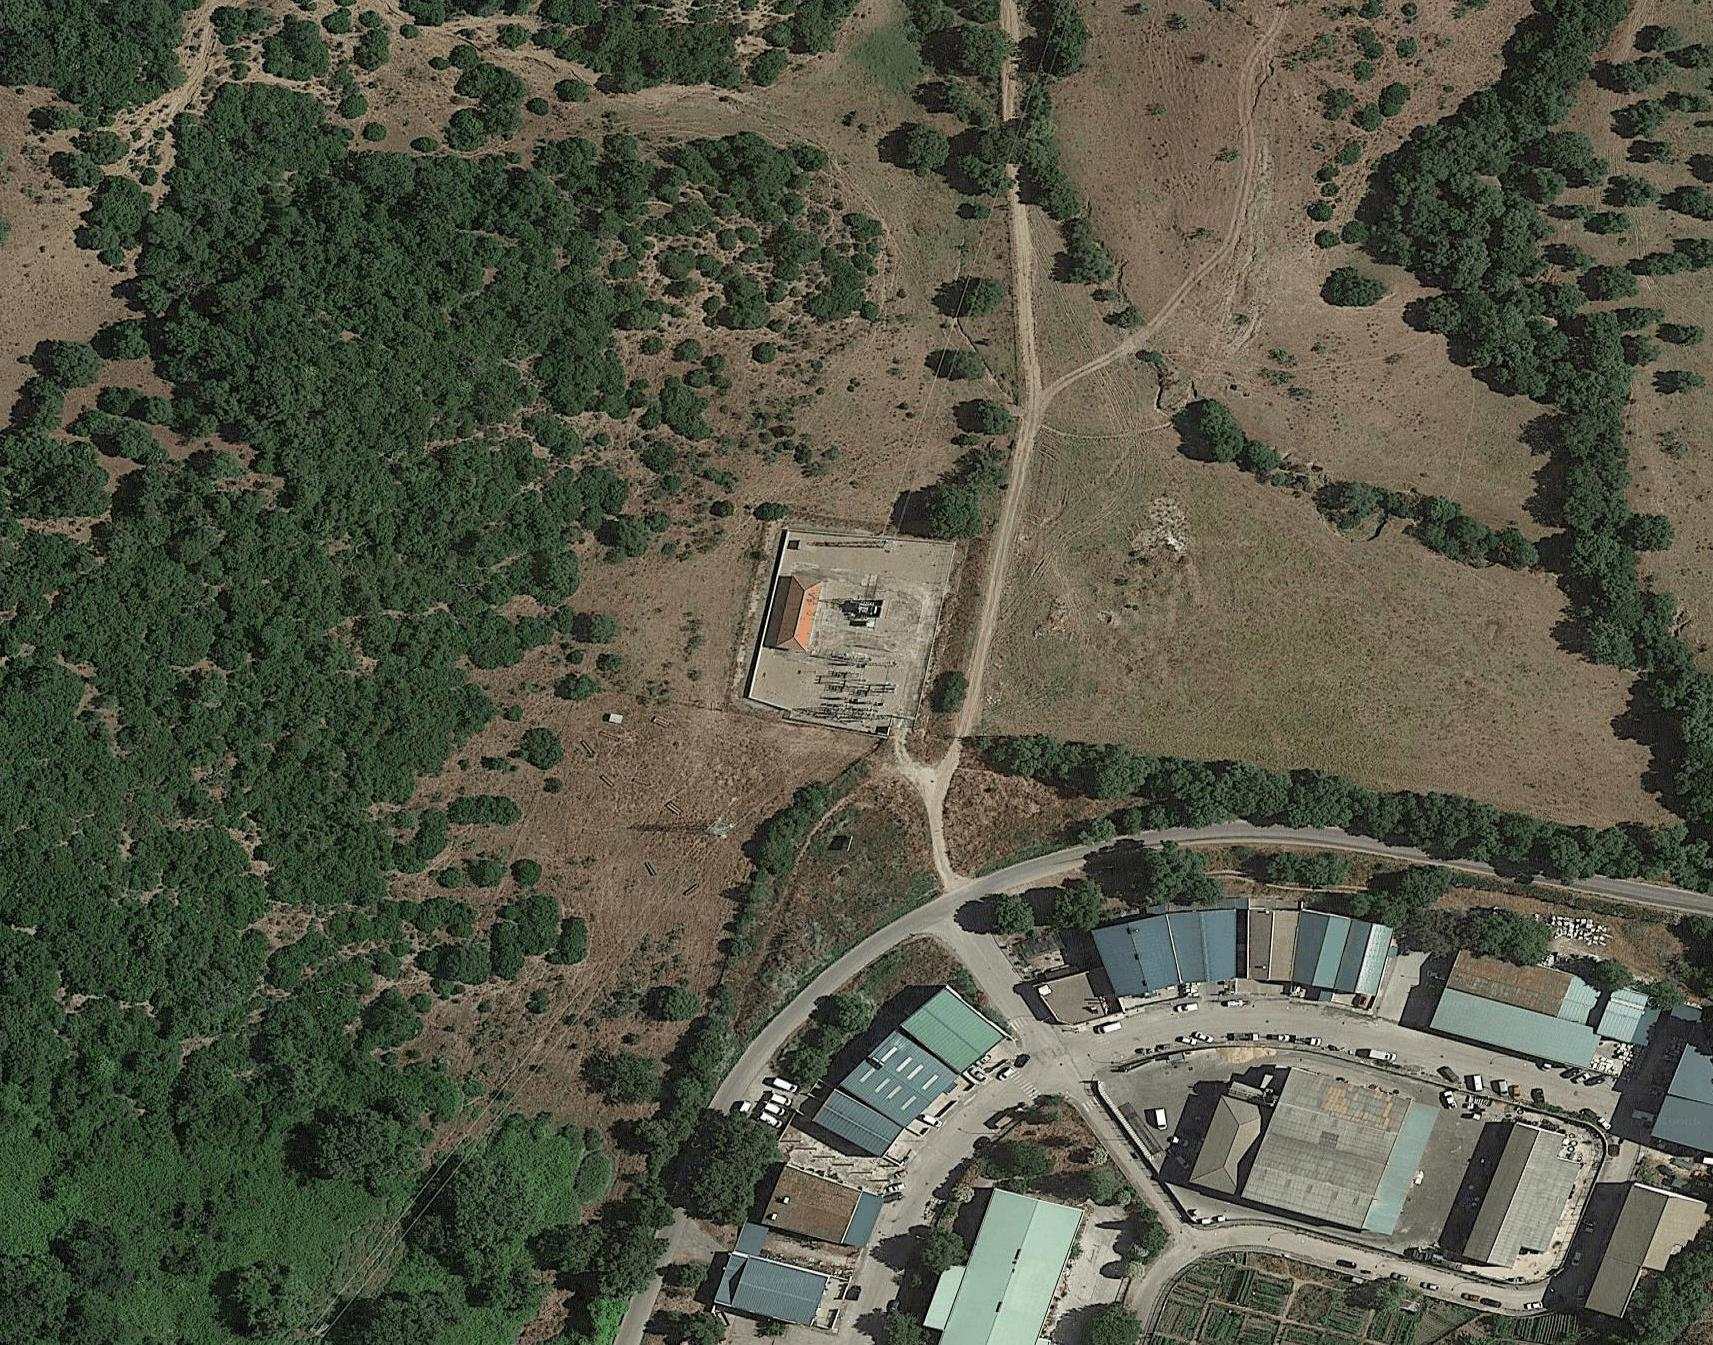substation: (794, 581, 904, 734)
